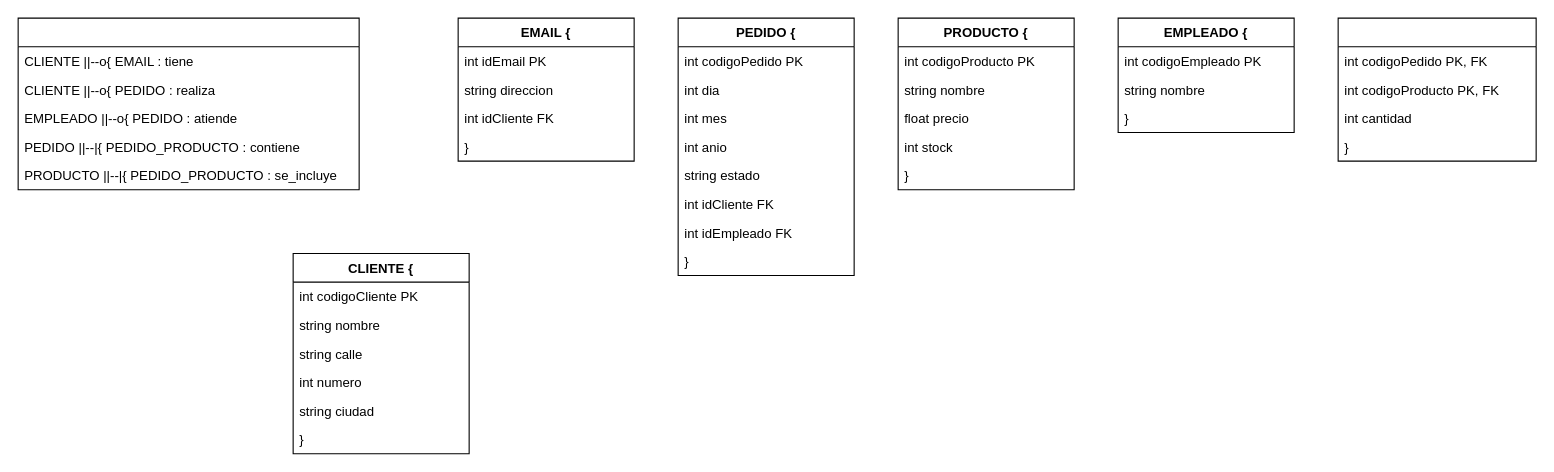
This 1554x472 diagram has some shape labels left out. Here are the shapes that lost their labels. From the top down, the box of each, then its label:
(17, 17, 359, 190): erDiagram
(1337, 17, 1536, 161): PEDIDO_PRODUCTO {
